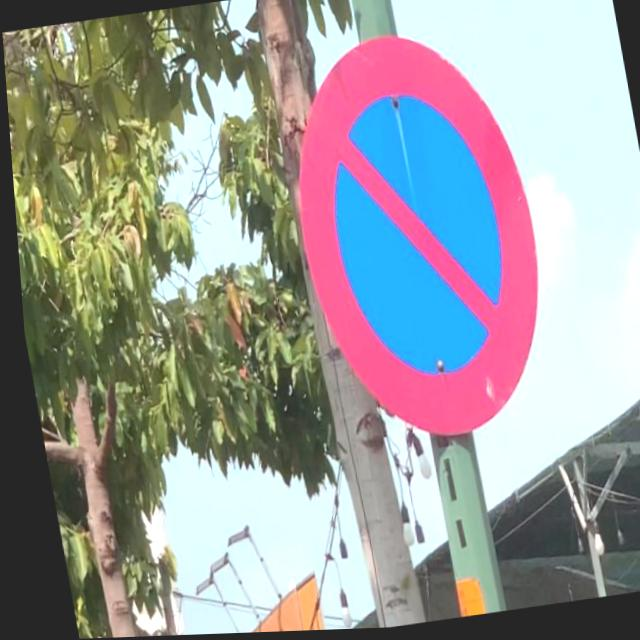Cam do xe: (261, 16, 565, 461)
